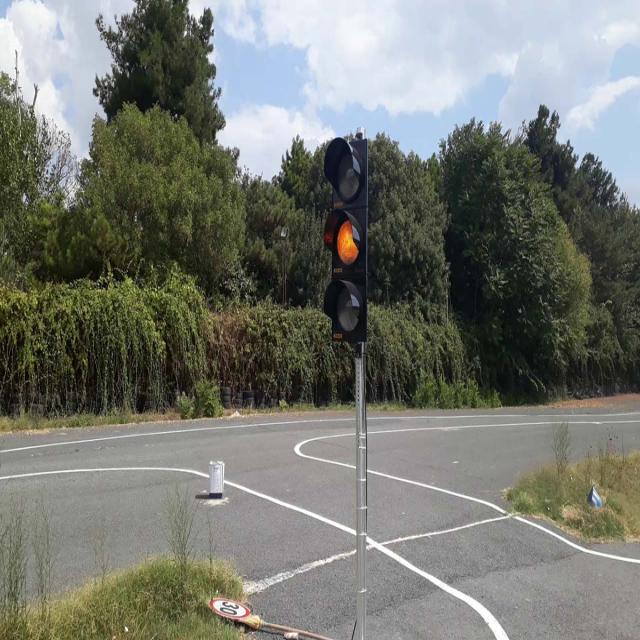sari: (325, 137, 367, 339)
